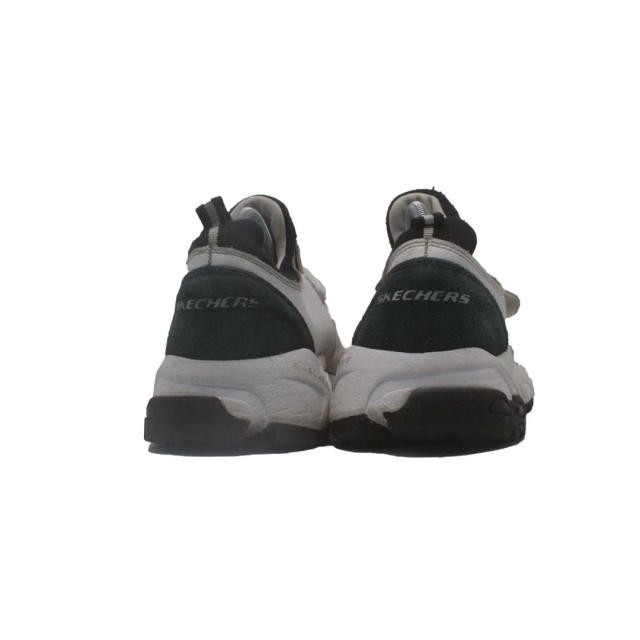heel: (360, 176, 502, 352), (175, 188, 303, 356)
midsole: (144, 351, 537, 453)
